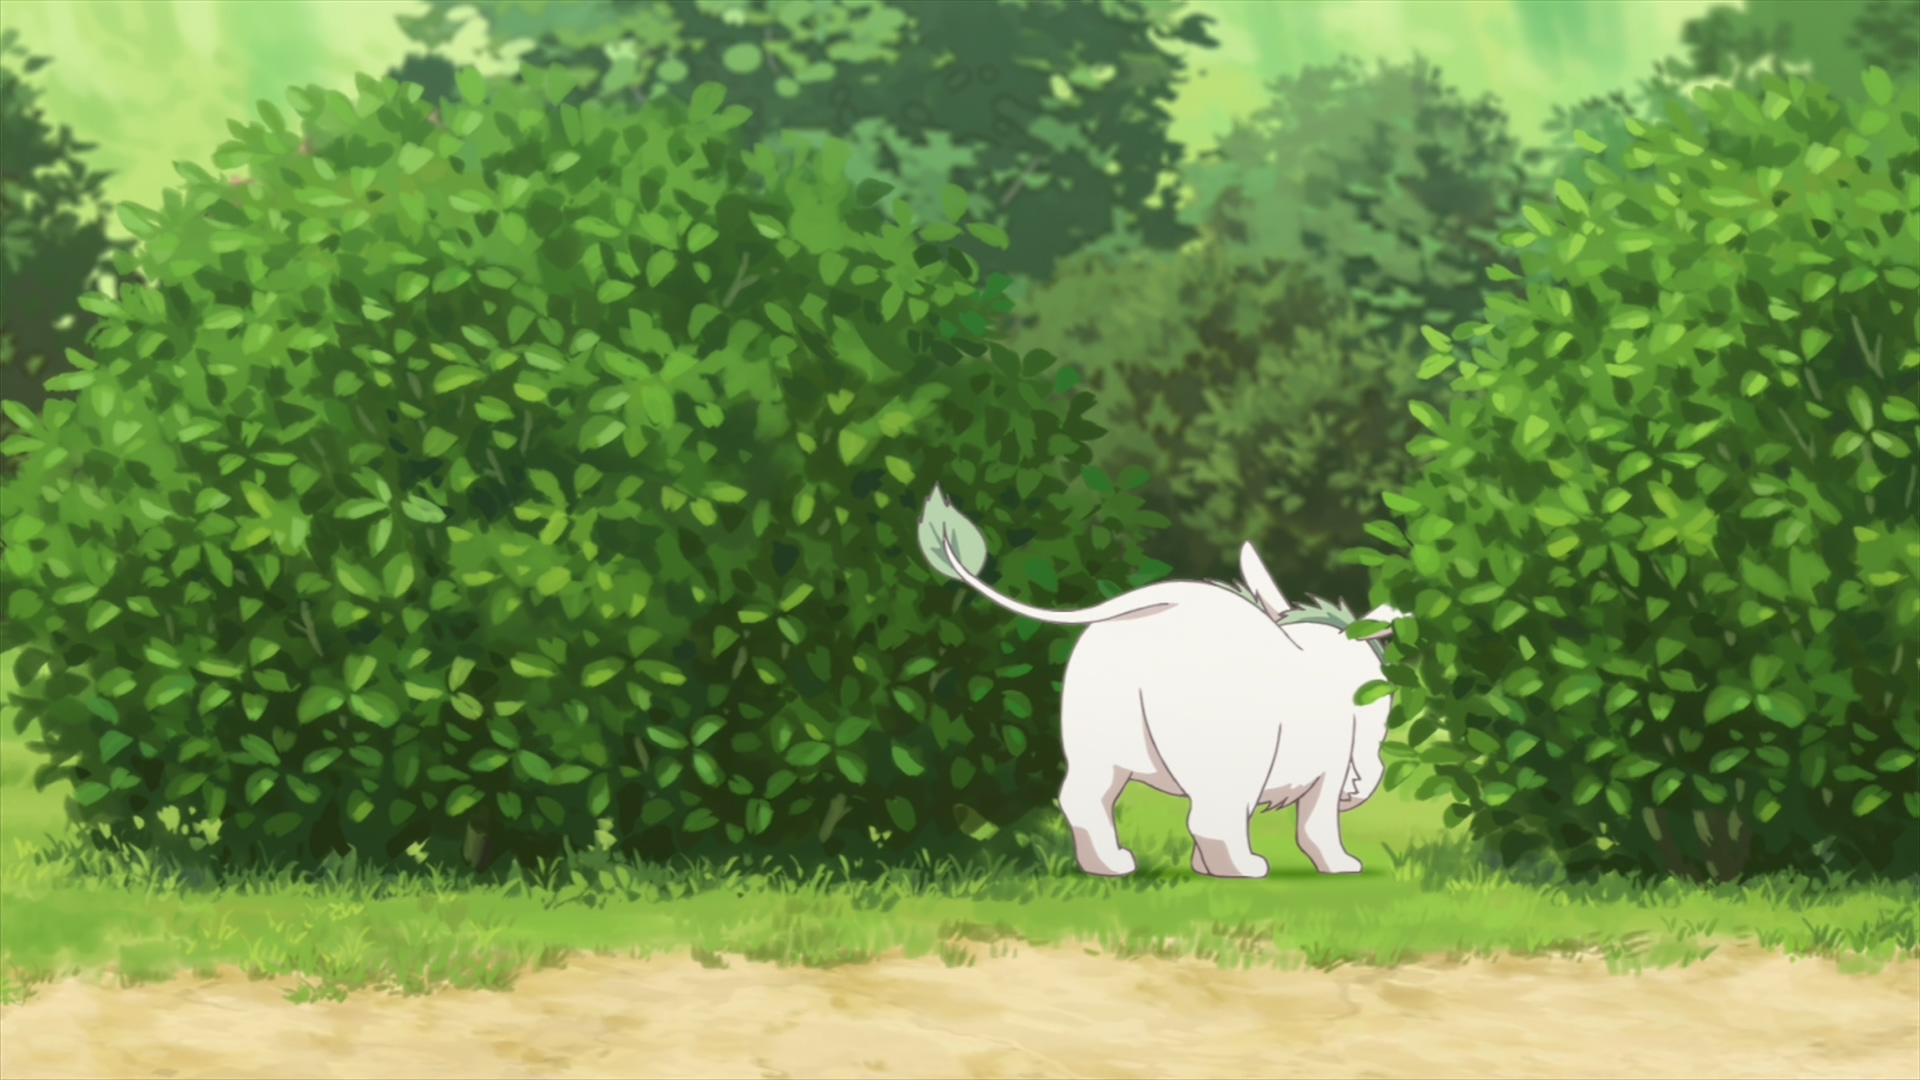瓜之介: (918, 479, 1412, 880)
